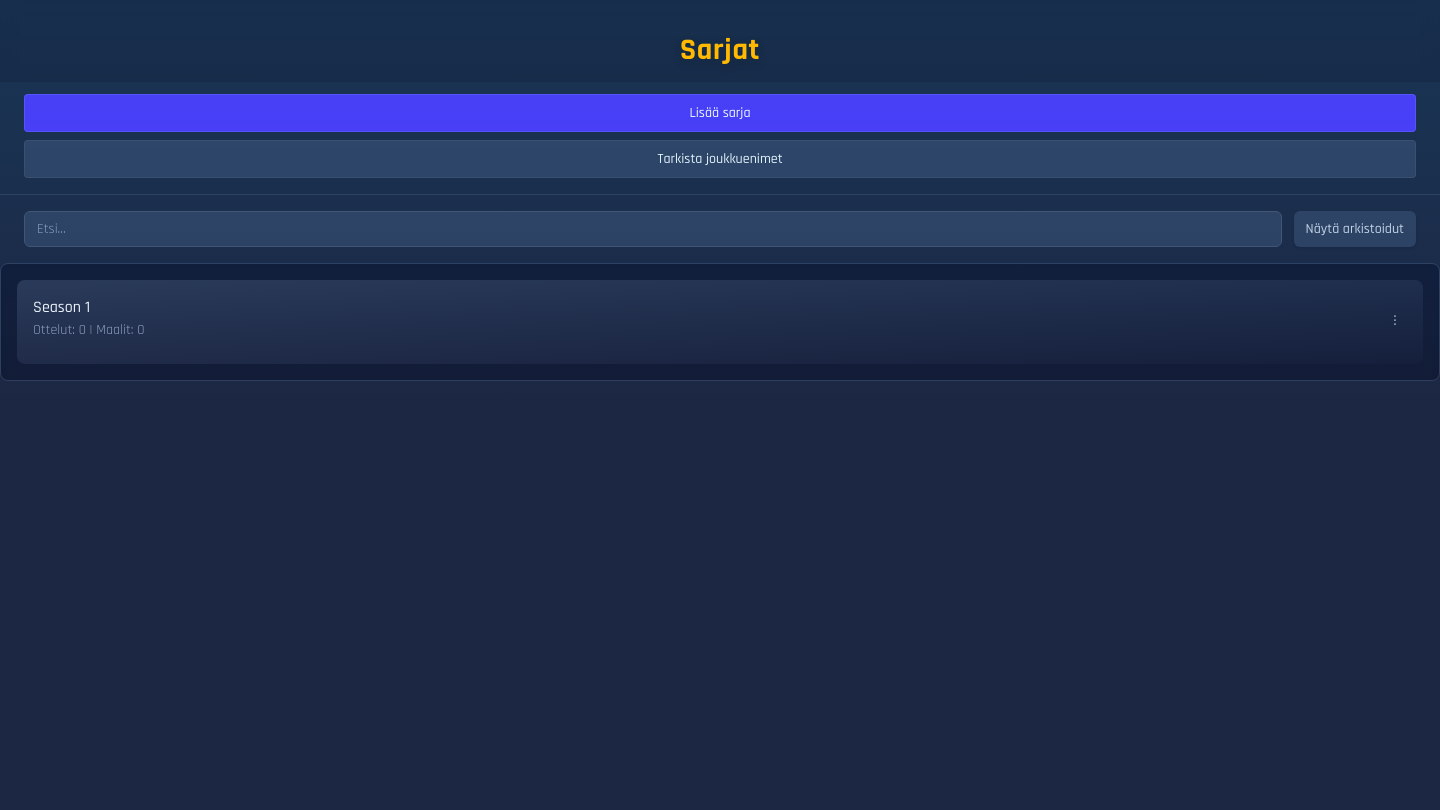
Test: SeasonTournamentManagementModal › opens season details modal when clicking edit in actions menu
This screenshot has width=1440, height=810.
Click the button named "season actions": click(1395, 320) 1383,308 -> 1407,332
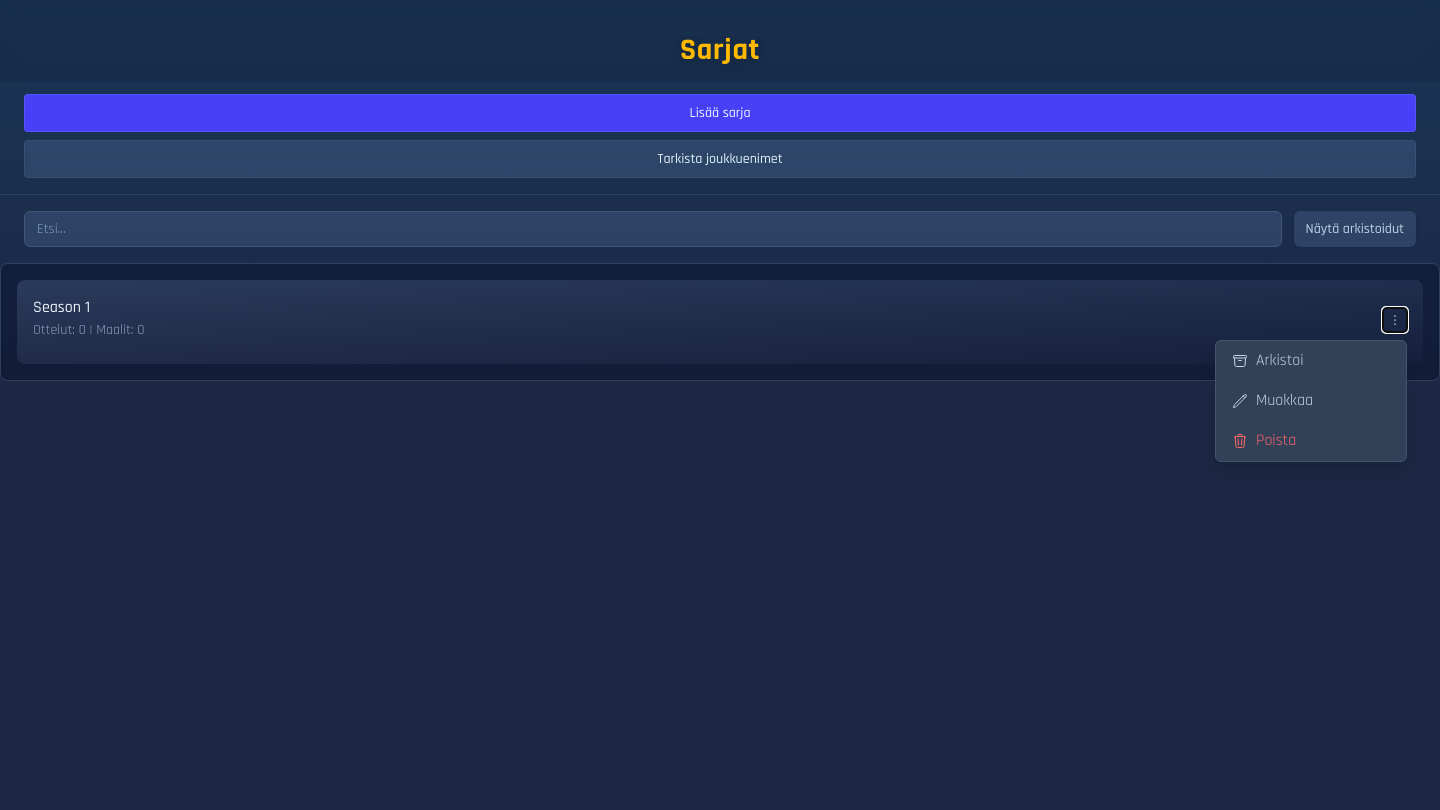
Click the button "Muokkaa": click(1311, 400) 1216,380 -> 1406,420
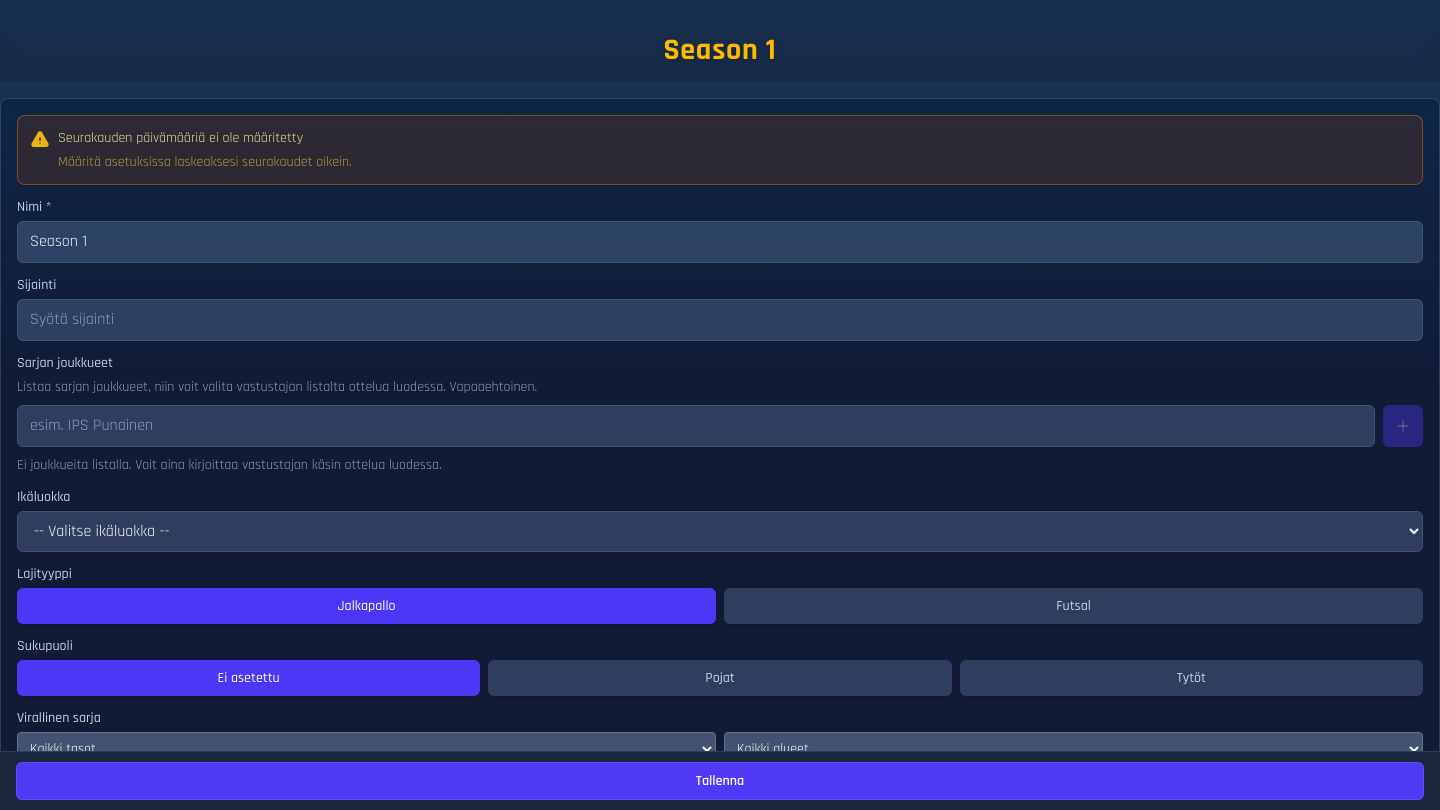
Check: the heading "Season 1" is shown, box 663,31 -> 777,69
